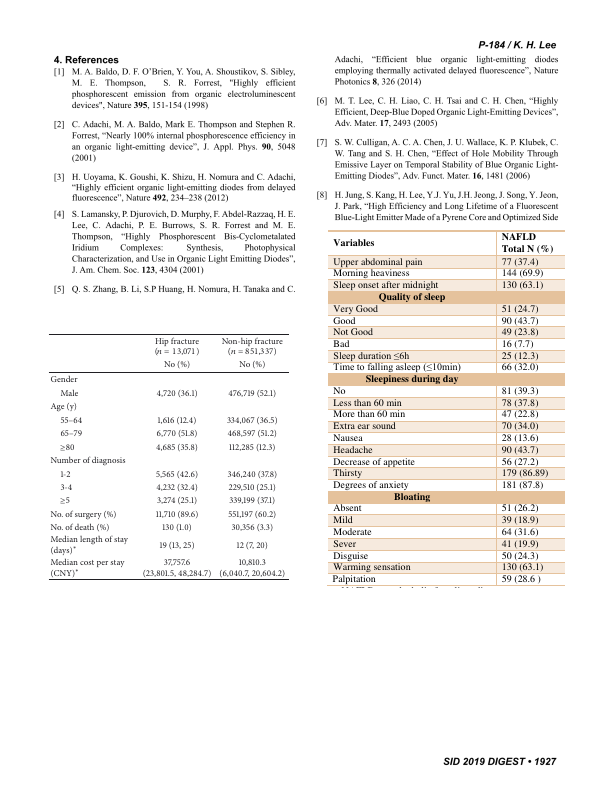borderless: (325, 229, 564, 587), (47, 332, 289, 579)
cell: (332, 360, 461, 375), (49, 534, 129, 556), (49, 557, 125, 579), (142, 557, 212, 579), (218, 557, 286, 579), (221, 336, 284, 359), (332, 279, 439, 292), (500, 231, 554, 256), (364, 373, 459, 386), (332, 256, 423, 269), (332, 349, 410, 364), (332, 455, 415, 469), (154, 336, 200, 359), (332, 561, 411, 574), (332, 267, 410, 280), (332, 479, 409, 492), (332, 408, 405, 421), (332, 397, 402, 410), (377, 291, 446, 304), (49, 455, 127, 466), (332, 420, 396, 433), (49, 509, 117, 519), (49, 522, 110, 533), (500, 467, 549, 480), (332, 303, 378, 316), (331, 573, 376, 586), (226, 415, 279, 426), (226, 469, 278, 480), (500, 267, 544, 280), (500, 279, 544, 292), (500, 479, 544, 492), (500, 561, 544, 574), (332, 237, 375, 250), (227, 388, 277, 399), (500, 314, 539, 328), (500, 455, 539, 469), (392, 490, 431, 504), (500, 549, 539, 563), (228, 482, 277, 493), (332, 326, 373, 339), (332, 444, 373, 457), (500, 573, 541, 586), (332, 526, 372, 539), (332, 549, 369, 563), (227, 429, 278, 439), (500, 256, 539, 269), (500, 303, 539, 316), (500, 326, 539, 339), (500, 350, 539, 363), (500, 361, 539, 374), (500, 385, 539, 398), (500, 397, 539, 410), (500, 408, 539, 421), (500, 420, 539, 433), (500, 432, 539, 445), (500, 444, 539, 457), (500, 502, 539, 515), (500, 514, 539, 527), (500, 526, 539, 539), (500, 538, 539, 551), (227, 509, 277, 519), (155, 388, 199, 399), (155, 469, 199, 480), (155, 482, 199, 493), (230, 522, 274, 533), (228, 442, 276, 452), (228, 496, 276, 506), (500, 338, 534, 351), (157, 415, 197, 426), (155, 442, 199, 452), (155, 509, 199, 519), (156, 429, 198, 439), (156, 496, 198, 506), (332, 432, 363, 445), (332, 467, 363, 480), (332, 502, 362, 515), (158, 540, 196, 550), (161, 522, 193, 533), (332, 314, 356, 328), (49, 374, 79, 385), (236, 540, 269, 550), (49, 401, 78, 412), (332, 538, 356, 551), (163, 360, 191, 370), (238, 360, 266, 370), (332, 514, 353, 527), (59, 415, 83, 426), (59, 429, 83, 439), (59, 439, 75, 454), (332, 338, 350, 351), (59, 388, 79, 399), (59, 492, 71, 508), (332, 385, 346, 398), (59, 482, 73, 493), (59, 469, 71, 480)
